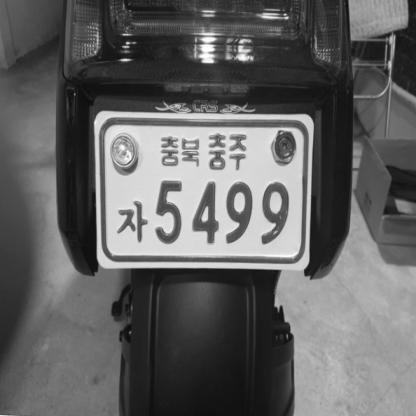bnum: (92, 108, 315, 272)
